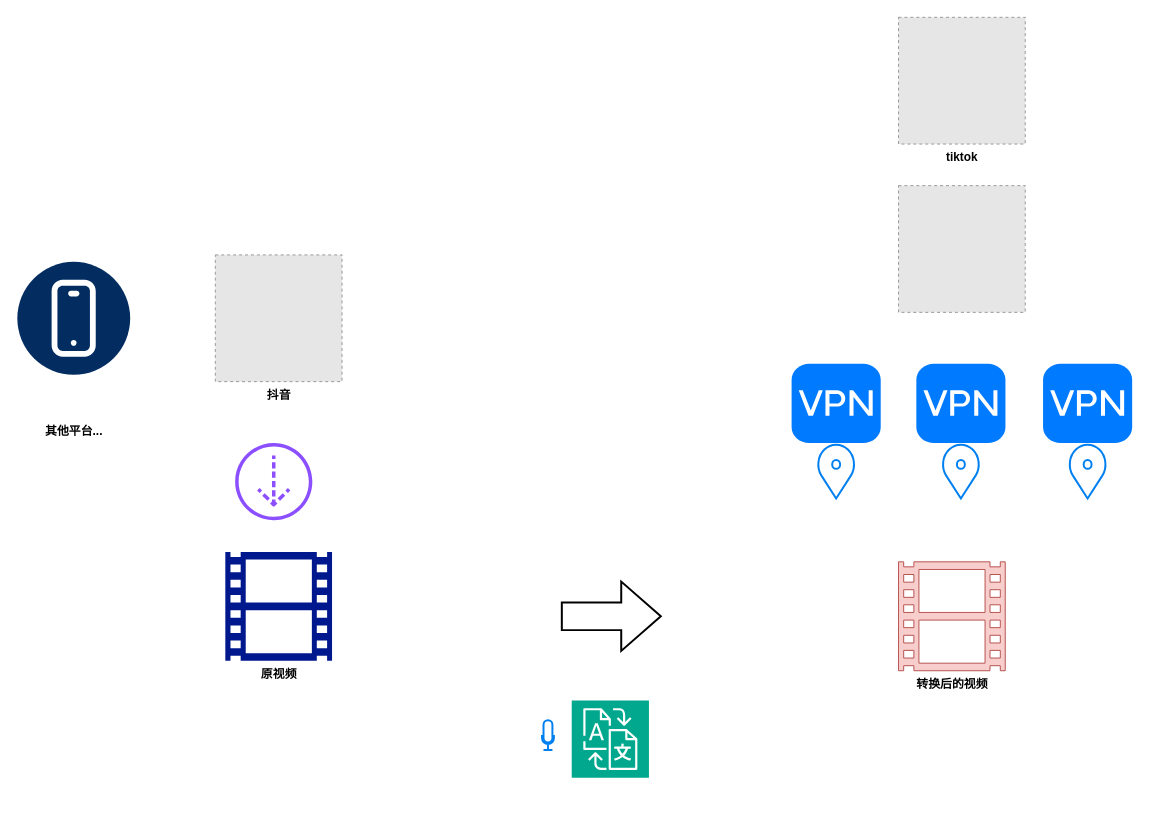
This 1149x816 diagram has some shape labels left out. Grey dashed boxes stand in for pictures. The box of each missing label's shape, as (x1, y1, x2, y2) in pixels:
翻译: (571, 699, 649, 778)
转换加工: (560, 580, 661, 651)
